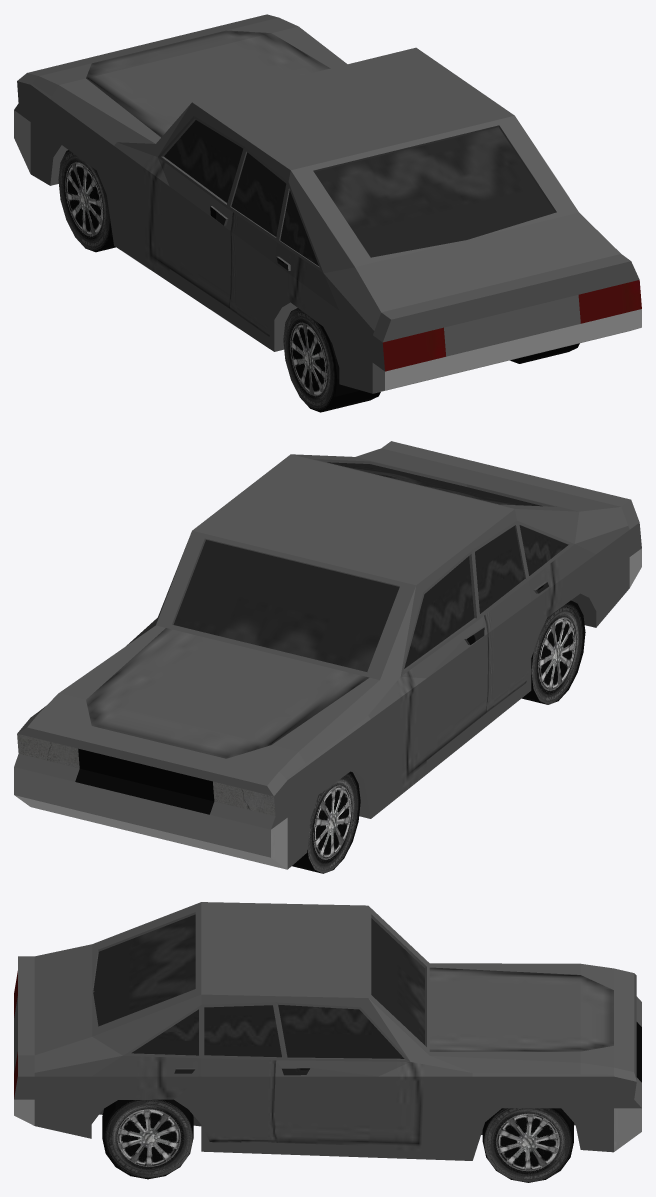
File: AdamsCarTypeAgrey.glb
3 renders of one model, top to bottom at view 1: azimuth 30°, elevation 25°; view 2: azimuth 150°, elevation 25°; view 3: azimuth 270°, elevation 25°, orthographic. The views are drawn at different scales.
Visible parts, largest first — view 1: Cylinder.004; view 2: Cylinder.004; view 3: Cylinder.004.
Part boxes in pixels (x1,y1,x2,y2): Cylinder.004: [14, 14, 641, 412]; Cylinder.004: [14, 441, 641, 873]; Cylinder.004: [14, 902, 641, 1182].
Size of the model in its own units: 7.4 by 5.87 by 18.23.
1 material, 1 textured.
